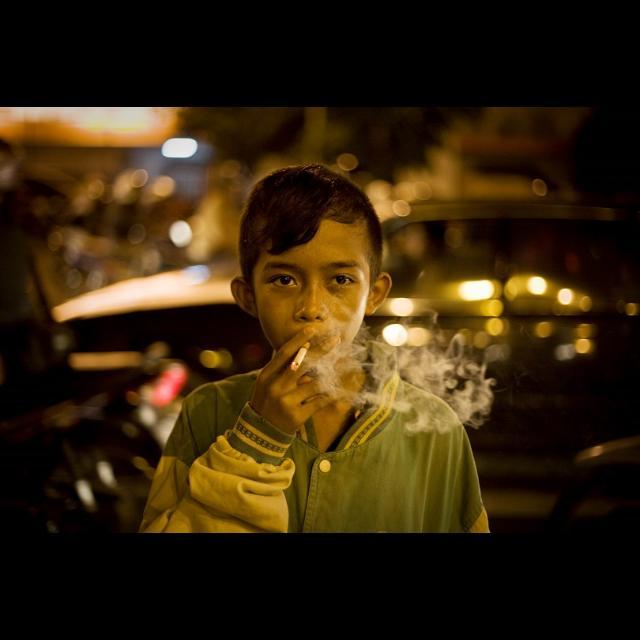rokok: (290, 340, 314, 370)
